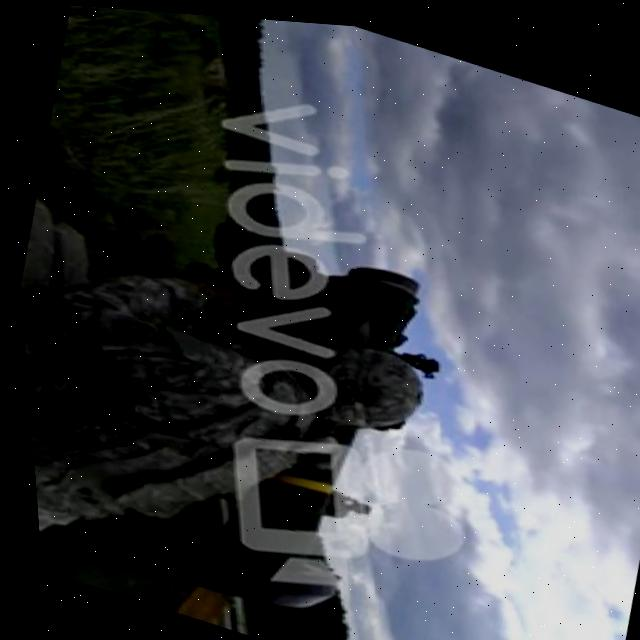rocket: (73, 179, 520, 640)
